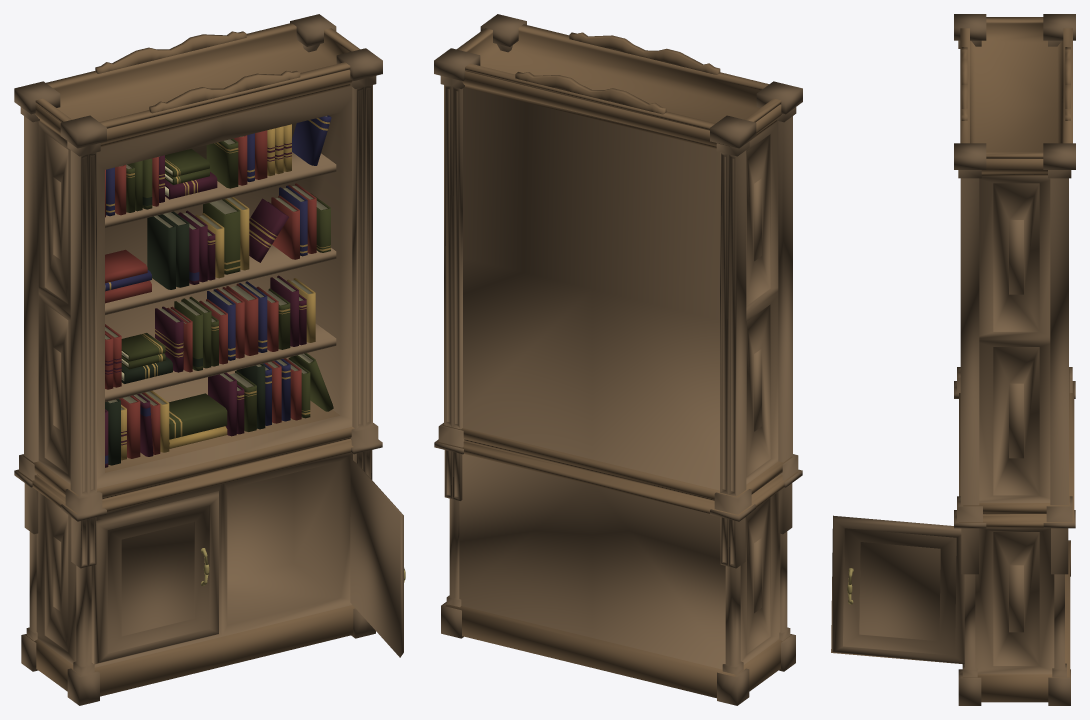
File: Bookcase_smooth.glb
3 views of the same model, side by side, from view 1: azimuth 30°, elevation 25°; view 2: azimuth 150°, elevation 25°; view 3: azimuth 270°, elevation 25° (orthographic). The views are drawn at different scales.
Visible parts, largest first — view 1: BookCase_Single, BookCase_LeftDoor, BookCase_RightDoor; view 2: BookCase_Single; view 3: BookCase_Single, BookCase_RightDoor.
Part boxes in pixels (left/top/right/bottom): BookCase_Single: left=14, top=14, right=382, bottom=705; BookCase_LeftDoor: left=94, top=491, right=218, bottom=664; BookCase_RightDoor: left=350, top=459, right=405, bottom=657; BookCase_Single: left=434, top=14, right=802, bottom=705; BookCase_Single: left=954, top=14, right=1075, bottom=705; BookCase_RightDoor: left=831, top=515, right=964, bottom=663.
Bounding box in the file's own units: 3.84 × 7.03 × 2.78.
